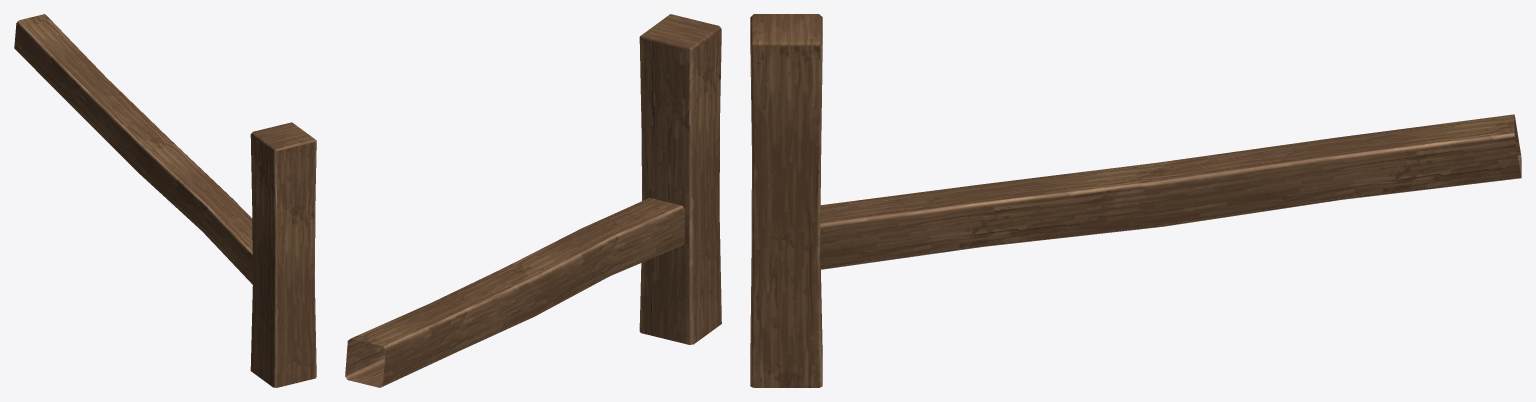
The model's file is SM_Fence_03.fbx.
3 renders of one model, left to right at view 1: azimuth 30°, elevation 25°; view 2: azimuth 150°, elevation 25°; view 3: azimuth 270°, elevation 25°, orthographic. The views are drawn at different scales.
Visible parts, largest first — view 1: SM_Fence_03_LOD0; view 2: SM_Fence_03_LOD0; view 3: SM_Fence_03_LOD0.
Part boxes in pixels (<box>): SM_Fence_03_LOD0: <box>14,14,316,387</box>; SM_Fence_03_LOD0: <box>345,14,721,387</box>; SM_Fence_03_LOD0: <box>750,14,1521,387</box>.
Bounding box in the file's own units: 20 × 213 × 105.
Materials: 1 (1 with a texture image).
